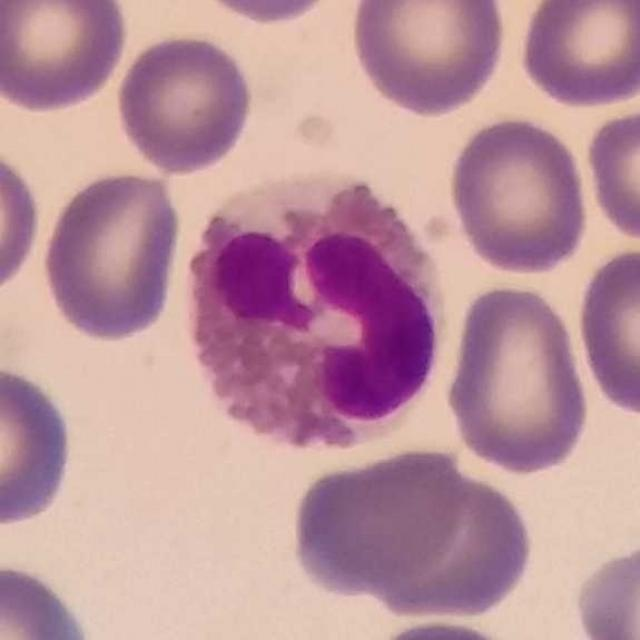Eosinophil: (168, 188, 455, 466)
RBC: (351, 455, 541, 626), (441, 280, 594, 478), (286, 444, 469, 599), (38, 166, 186, 345), (444, 112, 593, 278), (113, 29, 257, 177), (346, 0, 511, 119), (0, 0, 132, 116), (0, 358, 80, 532), (515, 0, 639, 110), (572, 242, 640, 420), (582, 101, 640, 247), (0, 555, 99, 640), (569, 534, 640, 640), (0, 140, 45, 301), (363, 614, 534, 640), (190, 0, 346, 27)
